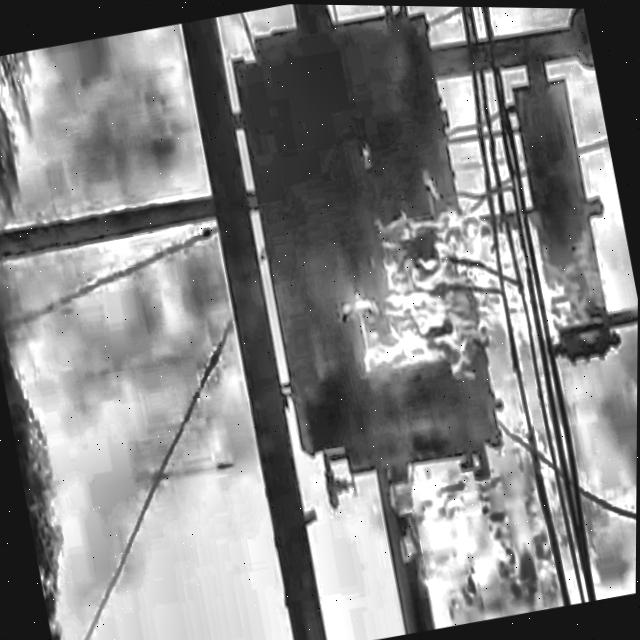Fire: (288, 124, 639, 636)
